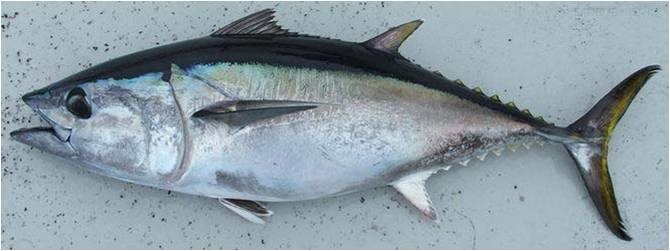Bluefina Tuna: (5, 4, 639, 251)
